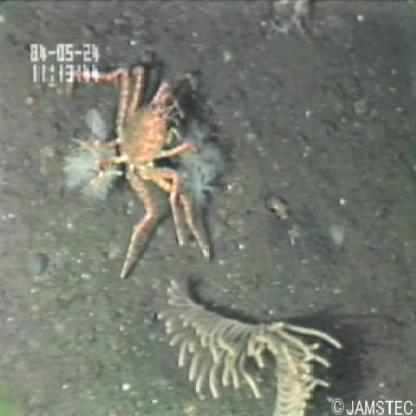Bio: (63, 58, 220, 283), (149, 270, 349, 416)
